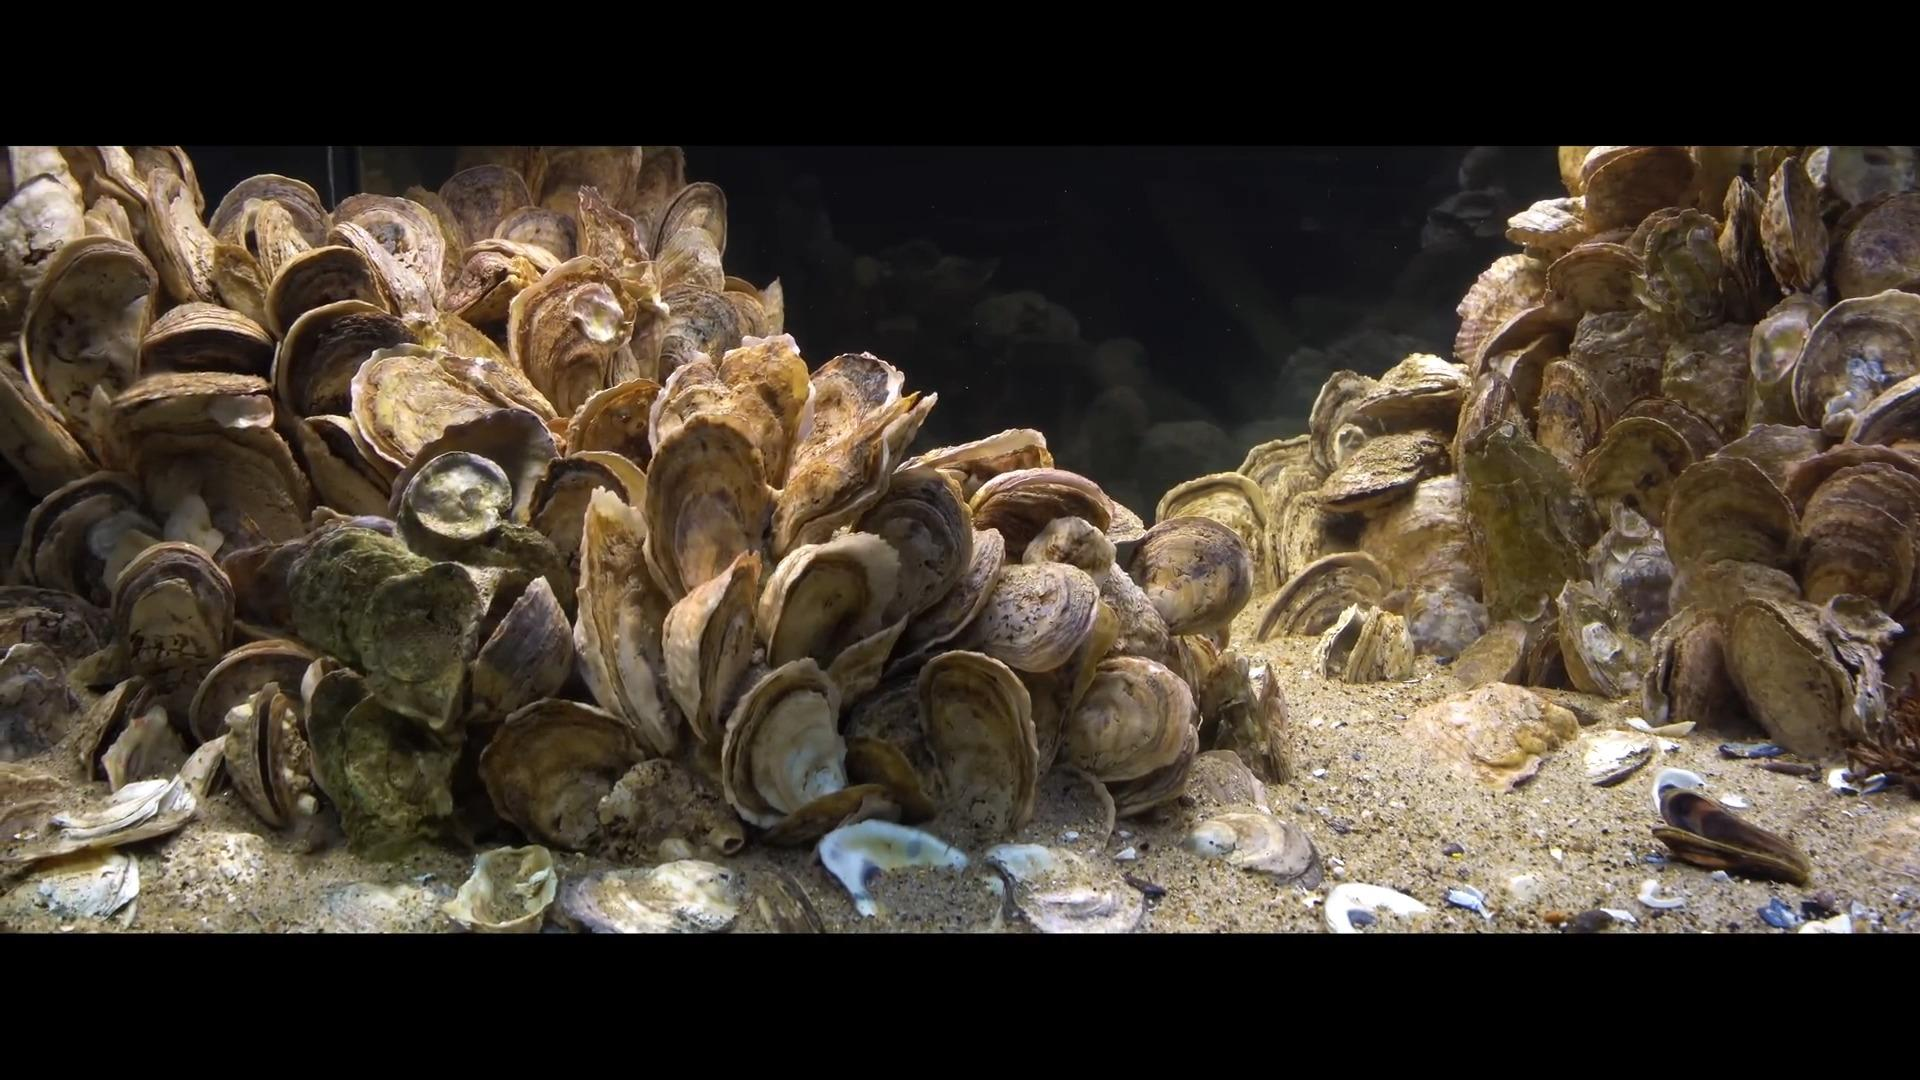Oyster: (301, 663, 462, 869), (347, 343, 555, 489), (20, 236, 161, 447), (641, 392, 774, 611), (575, 488, 678, 757), (475, 696, 645, 857), (127, 425, 311, 563), (1721, 593, 1862, 766), (841, 467, 969, 653), (918, 651, 1039, 837), (508, 260, 647, 421), (754, 531, 895, 688), (719, 658, 847, 829), (100, 539, 237, 692), (1791, 460, 1919, 616), (1658, 448, 1803, 584), (1788, 289, 1920, 438), (272, 299, 411, 433), (1122, 513, 1251, 651), (465, 572, 579, 729), (1067, 653, 1195, 790), (678, 549, 764, 750), (208, 171, 328, 313), (18, 473, 148, 603), (103, 367, 285, 455), (326, 191, 450, 320), (124, 160, 225, 311), (187, 641, 319, 756), (960, 564, 1100, 673), (524, 452, 636, 585), (1578, 413, 1706, 529), (265, 244, 394, 359), (709, 330, 812, 471), (910, 524, 1010, 667), (0, 347, 94, 497), (963, 465, 1120, 555), (0, 167, 87, 327), (796, 345, 906, 467), (1329, 353, 1472, 446), (132, 299, 277, 385), (902, 425, 1054, 505), (1313, 427, 1451, 512), (749, 781, 906, 853), (1575, 145, 1700, 233), (443, 844, 562, 934), (1828, 190, 1920, 305), (563, 376, 667, 473), (647, 285, 748, 385), (1758, 152, 1828, 294), (95, 692, 187, 798), (529, 146, 641, 231), (436, 161, 534, 255), (841, 737, 940, 828), (1474, 299, 1572, 386), (1545, 236, 1648, 318), (650, 178, 729, 277), (574, 182, 653, 281), (1457, 364, 1531, 467), (487, 203, 580, 270)
